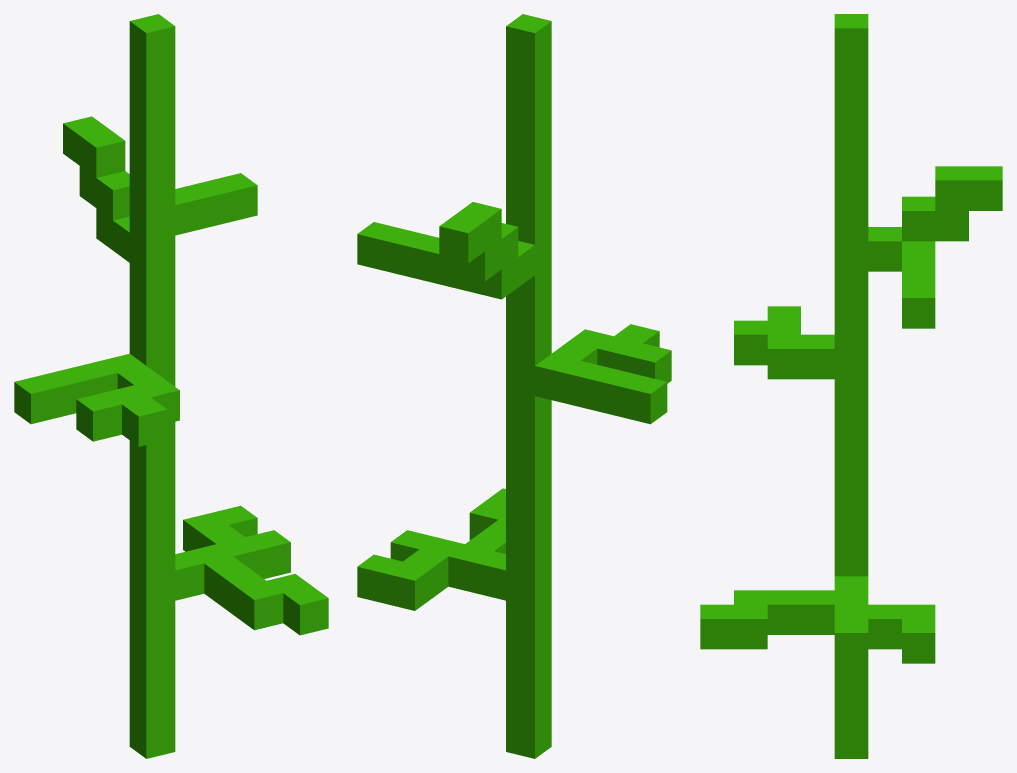
3 renders of one model, left to right at view 1: azimuth 30°, elevation 25°; view 2: azimuth 150°, elevation 25°; view 3: azimuth 270°, elevation 25°, orthographic.
Visible parts, largest first — view 1: Flower; view 2: Flower; view 3: Flower.
Part boxes in pixels (x1,y1,x2,y2): Flower: (14,14,328,758); Flower: (357,14,671,758); Flower: (700,14,1002,758).
Size of the model in its own units: 0.9 by 2.4 by 0.9.
